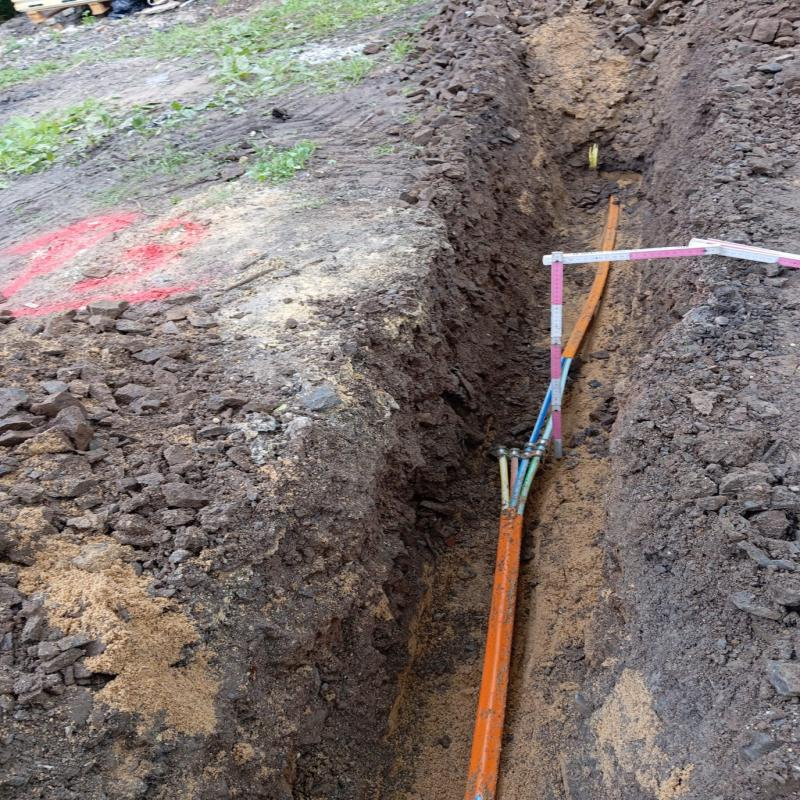Orang-Speednetrohrchen: (464, 310, 595, 800)
